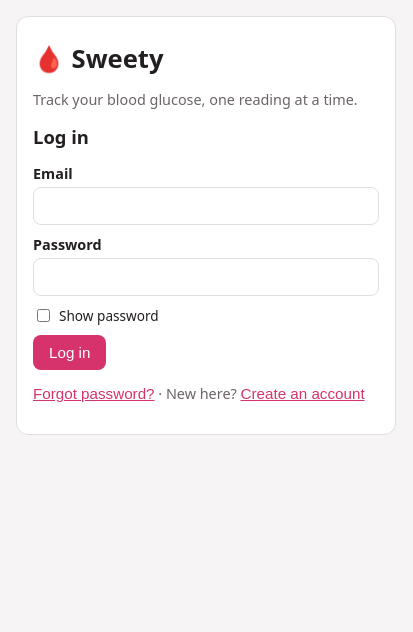
Scenario: successful signup goes to the login screen without logging in
Click the button "Create an account" at (303,394), box [240,385,365,402]
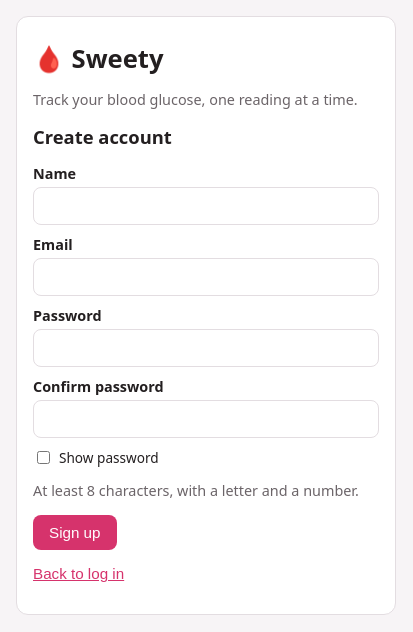
Type "Asha" into the field labelled "Name" at (206,206), box [33,187,379,225]
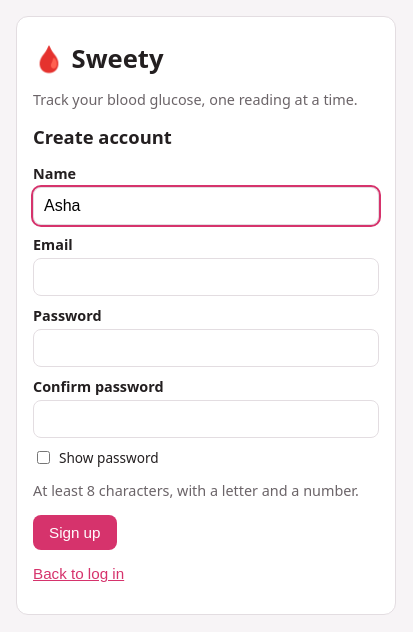
Type "a@test.com" into the field labelled "Email" at (206,277), box [33,258,379,296]
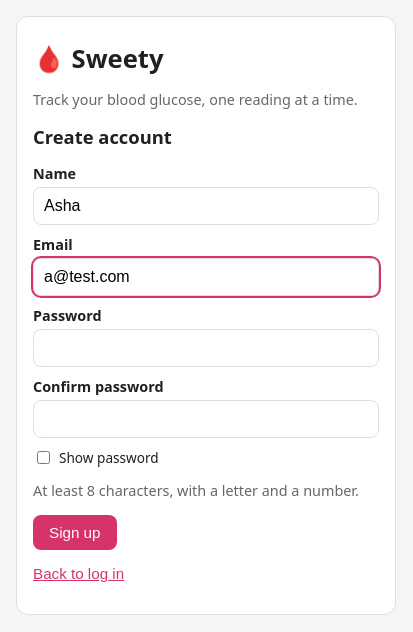
Type "password123" into the password field labelled "Password" at (206,348), box [33,329,379,367]
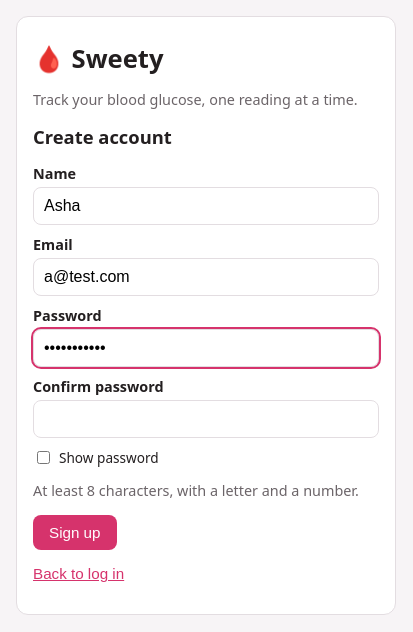
Type "password123" into the password field labelled "Confirm password" at (206,419), box [33,400,379,438]
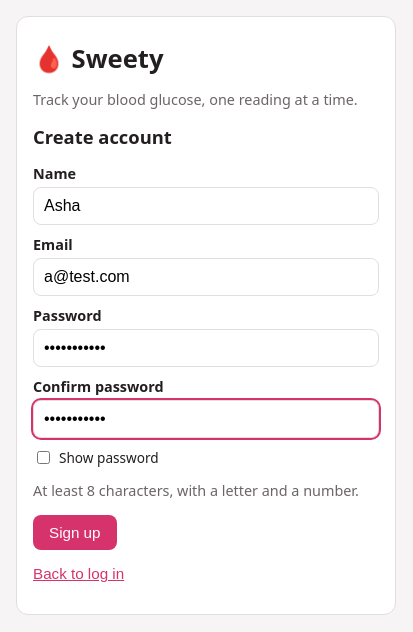
Click the button "Sign up" at (75,532), box [33,515,116,550]
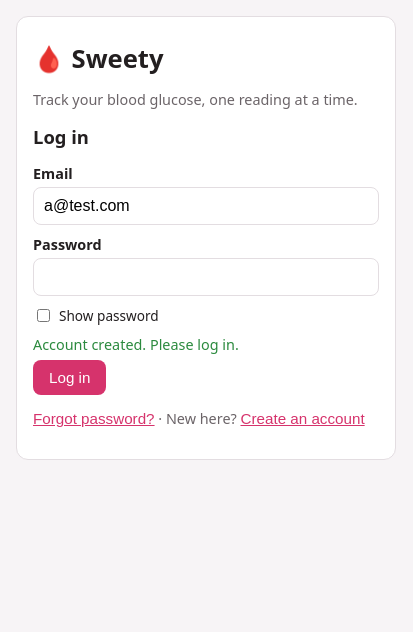
Expected: the text "Account created. Please log in." is shown, [33,335,239,354]
Expected: the heading "Log in" is shown, [33,124,89,149]
